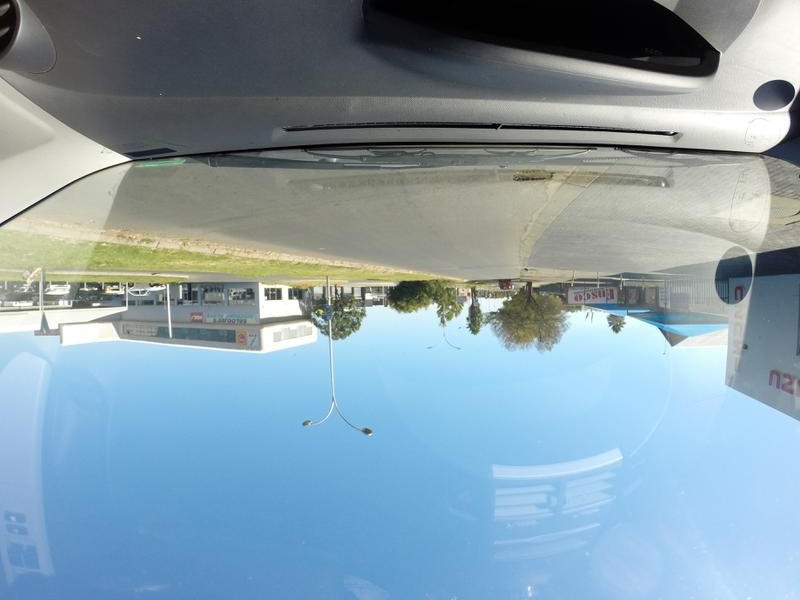pothole: (501, 166, 555, 189)
